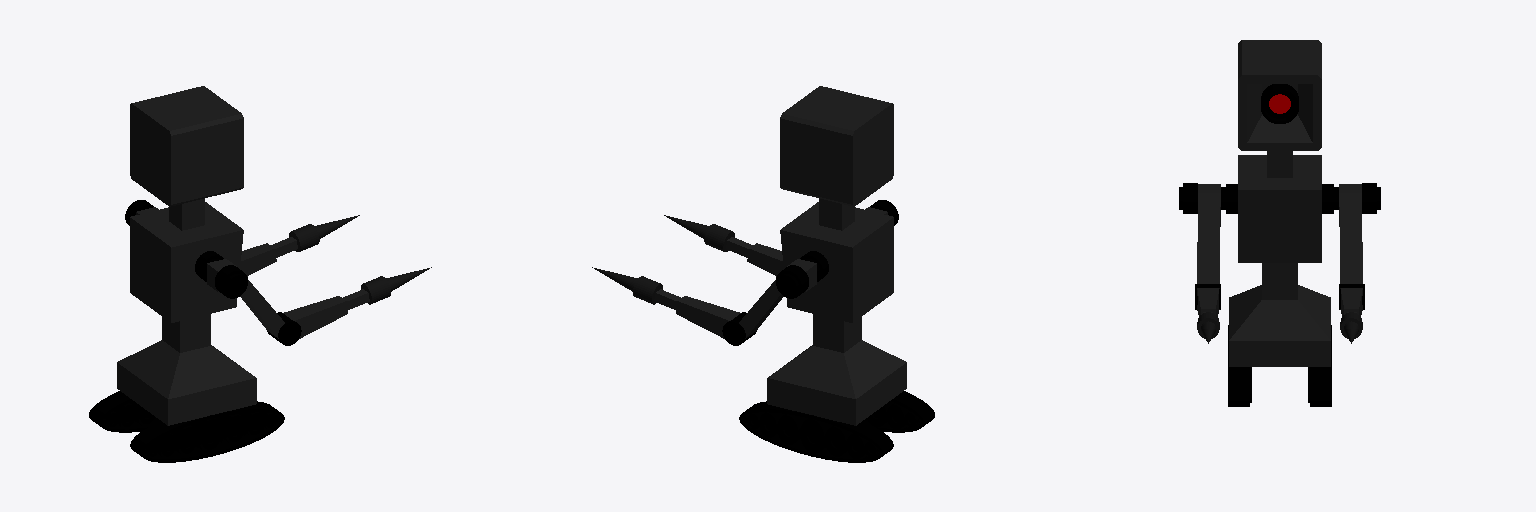
File: robot.obj
3 renders of one model, left to right at view 1: azimuth 30°, elevation 25°; view 2: azimuth 150°, elevation 25°; view 3: azimuth 270°, elevation 25°, orthographic.
Visible parts, largest first — view 1: the_robot; view 2: the_robot; view 3: the_robot.
Part boxes in pixels (left/top/right/bottom): the_robot: left=89, top=86, right=431, bottom=462; the_robot: left=592, top=86, right=934, bottom=462; the_robot: left=1179, top=40, right=1380, bottom=406.
Size of the model in its own units: 7.81 by 8.68 by 4.83.